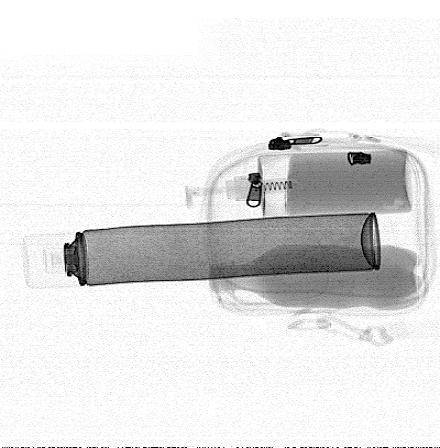Sprayer: (23, 213, 380, 288)
